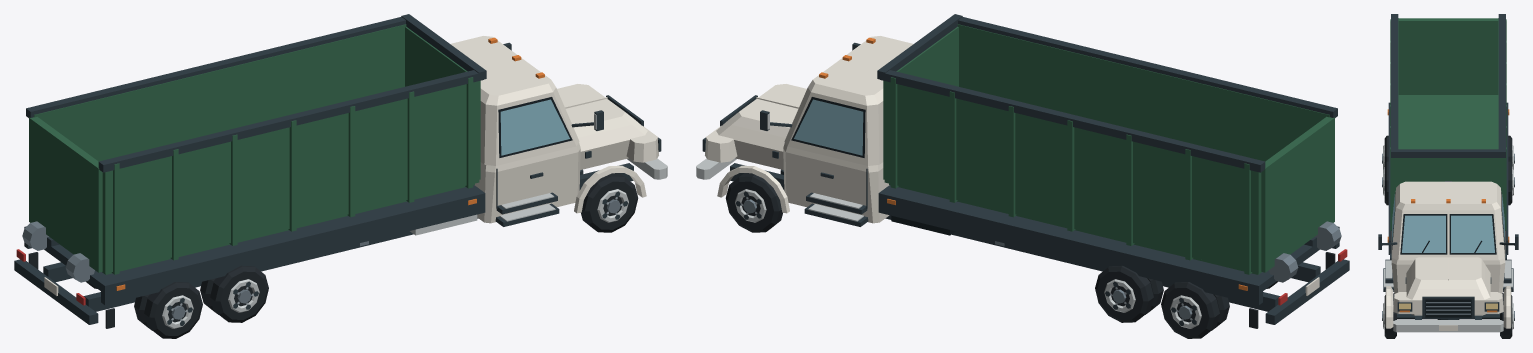
Rendered from b15_rolloff_container_truck.glb.
The picture shows the model from 3 angles, left to right: view 1: azimuth 30°, elevation 25°; view 2: azimuth 150°, elevation 25°; view 3: azimuth 270°, elevation 25°; orthographic projection. The views are drawn at different scales.
Visible parts, largest first — view 1: b15_rolloff_container_truck; view 2: b15_rolloff_container_truck; view 3: b15_rolloff_container_truck.
Part boxes in pixels (box(x1,y1,x2,y2)): b15_rolloff_container_truck: box(14, 14, 667, 338); b15_rolloff_container_truck: box(696, 14, 1349, 338); b15_rolloff_container_truck: box(1378, 14, 1518, 338).
Size of the model in its own units: 10.47 by 3.24 by 2.93.
